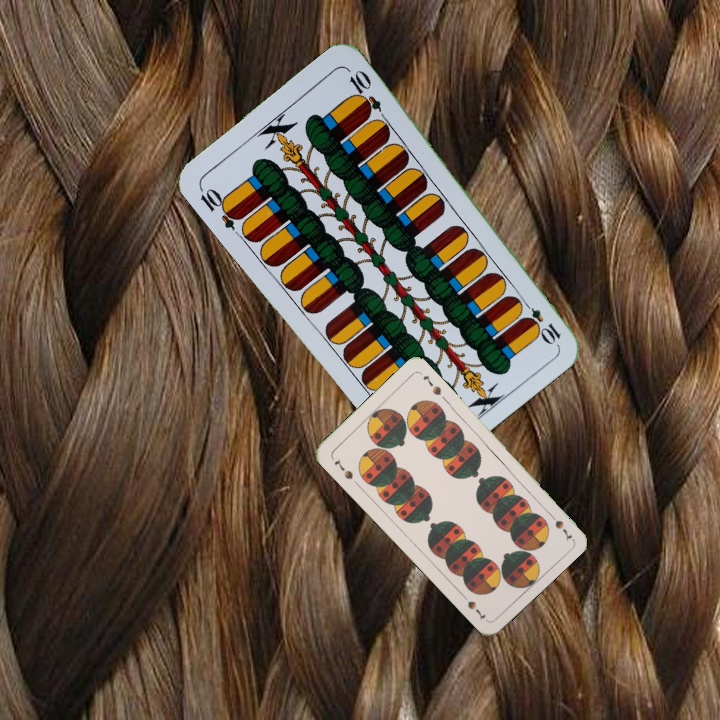E10: (195, 182, 244, 232), (516, 295, 564, 345)
S7: (543, 508, 575, 542), (330, 455, 356, 482)
